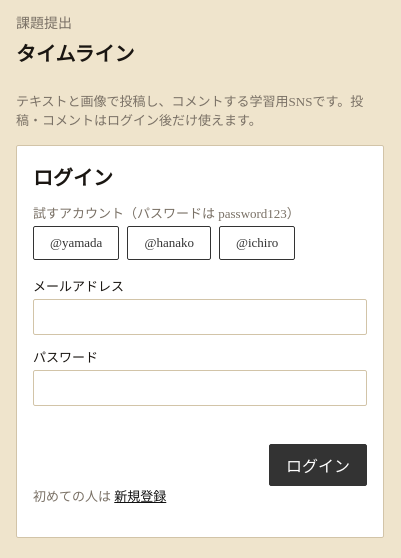
Test case: LoginPage › clears the password when login fails
Type "yamada@example.com" into the field labelled "メールアドレス" at (200, 317), box [33,299,367,335]
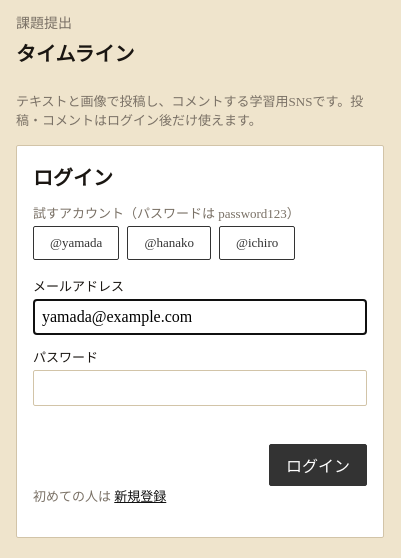
Type "wrong-pass" into the password field labelled "パスワード" at (200, 388), box [33,370,367,406]
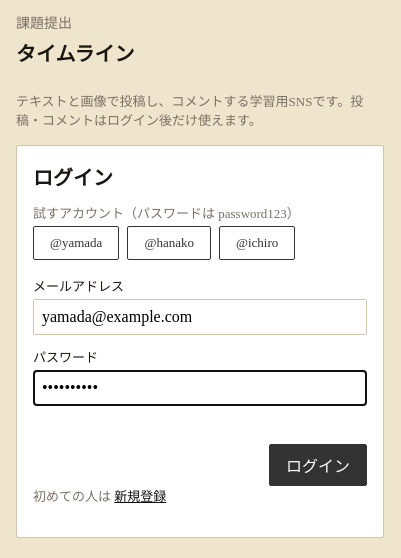
Click the button "ログイン" at (318, 465), box [269,444,367,486]
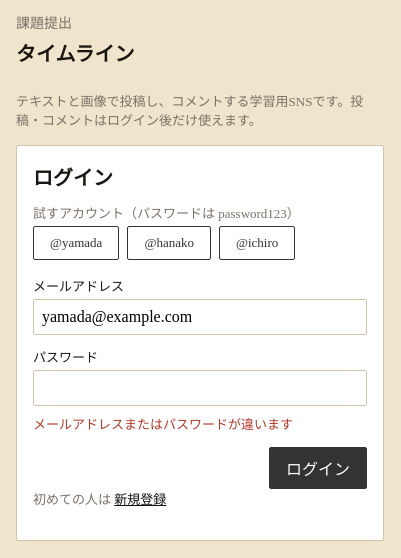
Result: the text "メールアドレスまたはパスワードが違います" is shown at [33,417,293,432]
Result: the password field labelled "パスワード" is empty at [33,370,367,406]
